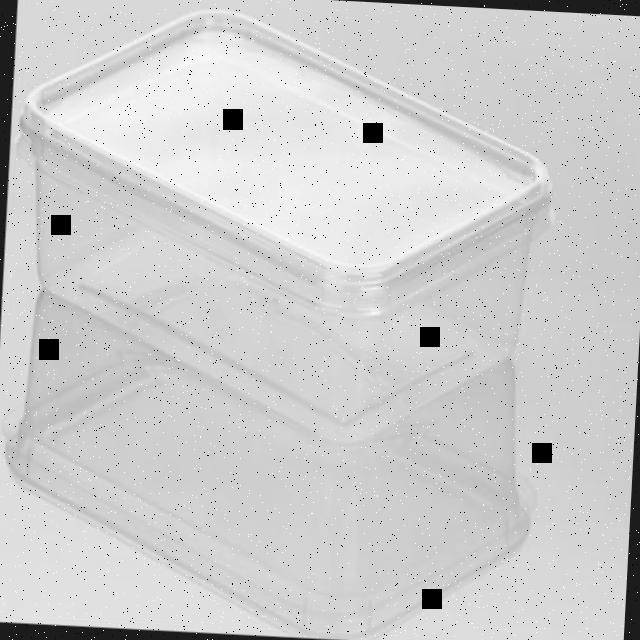plastic_box: (0, 0, 554, 457)
